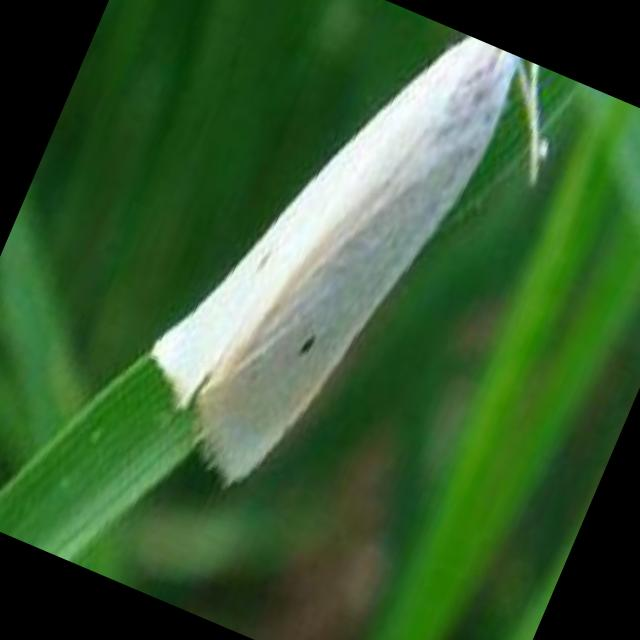stem-borer: (108, 0, 581, 559)
